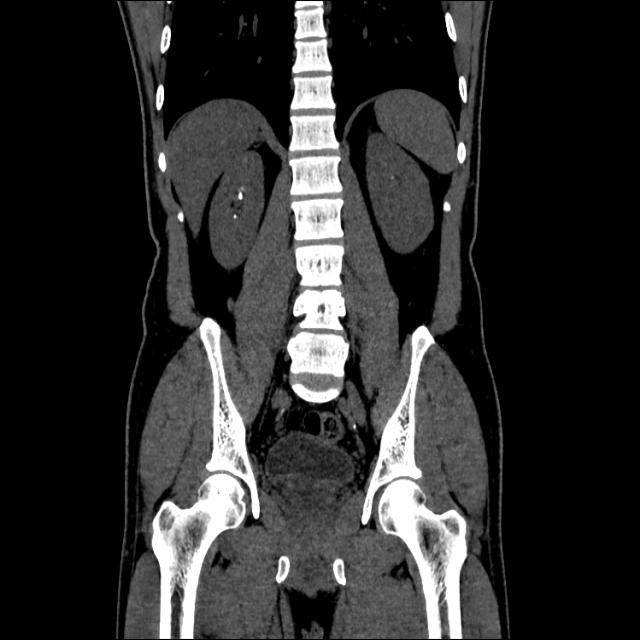kidney: (367, 134, 433, 256), (204, 148, 268, 272)
stone: (237, 190, 244, 200), (233, 213, 238, 218)
